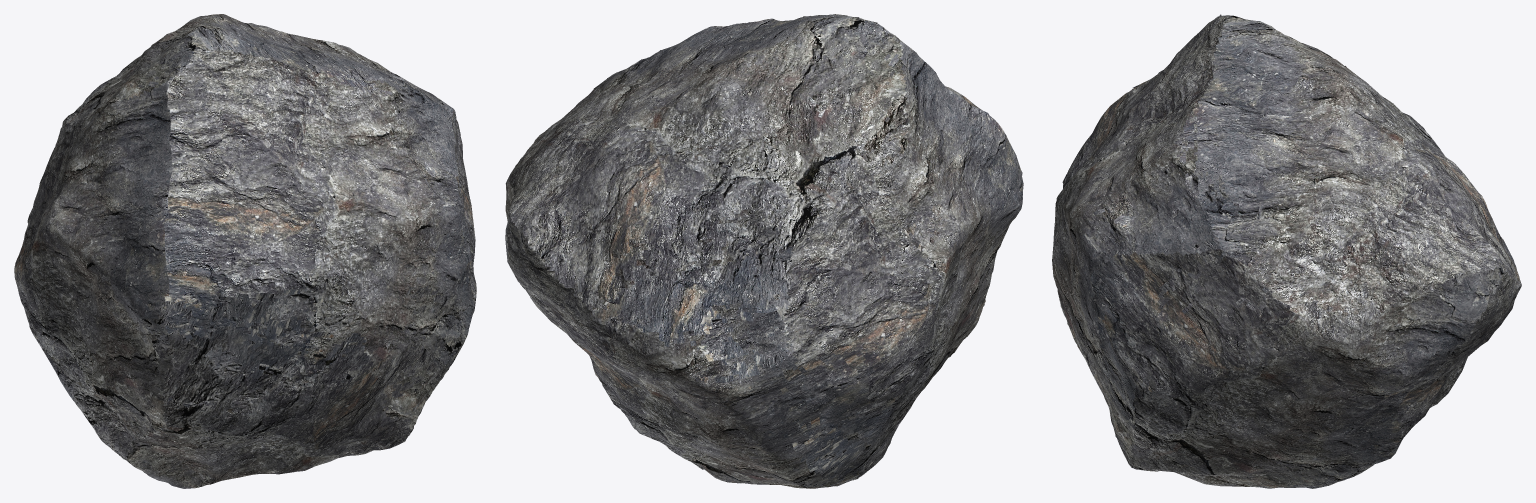
3 renders of one model, left to right at view 1: azimuth 30°, elevation 25°; view 2: azimuth 150°, elevation 25°; view 3: azimuth 270°, elevation 25°, orthographic. The views are drawn at different scales.
Visible parts, largest first — view 1: meteor; view 2: meteor; view 3: meteor.
Boxes of the visible parts, left/top/right/bottom form: meteor: left=14, top=14, right=476, bottom=488; meteor: left=505, top=14, right=1023, bottom=488; meteor: left=1052, top=14, right=1521, bottom=488.
Size of the model in its own units: 2.3 by 2.34 by 2.31.
1 material, 1 textured.
